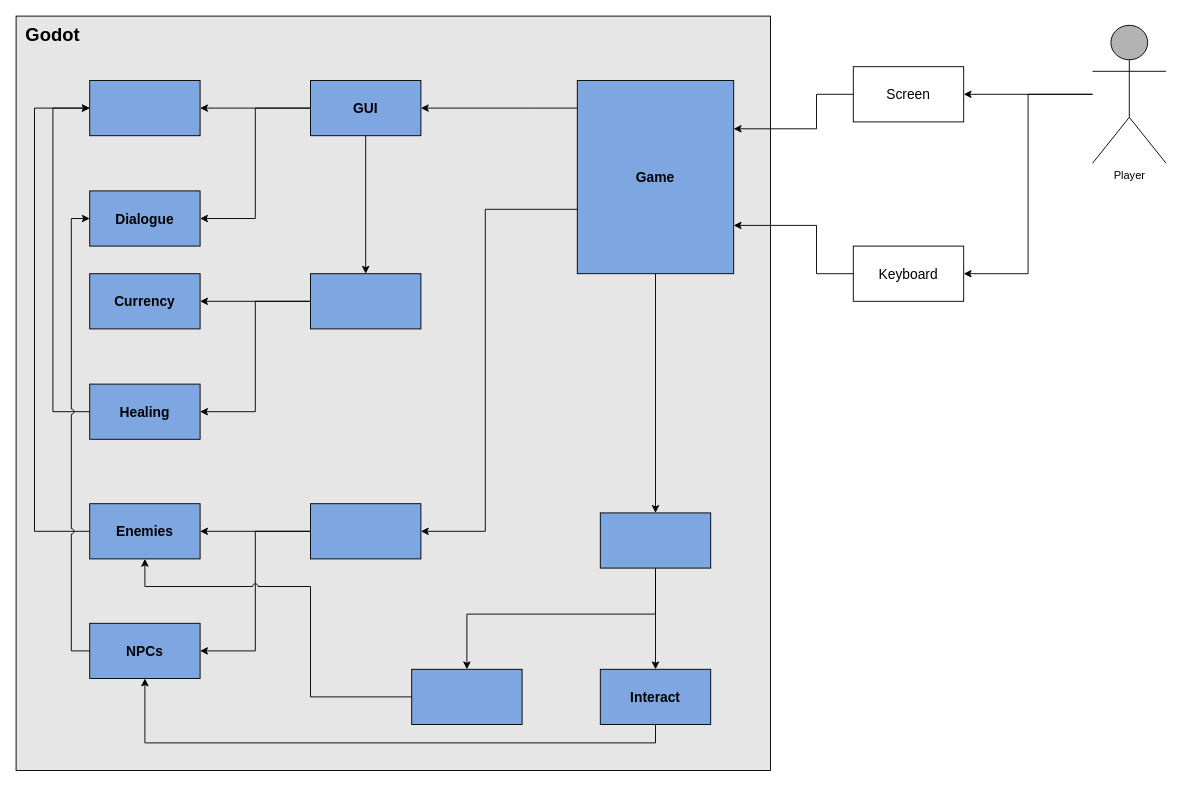
Some shapes in this 1182 by 787 pixel diagram are drawn without their labels. Each missing label, with the box of its shape:
Attack: (411, 668, 522, 724)
Characters: (310, 503, 421, 559)
Controls: (599, 512, 711, 568)
Health: (89, 80, 200, 136)
Items: (310, 273, 421, 329)
